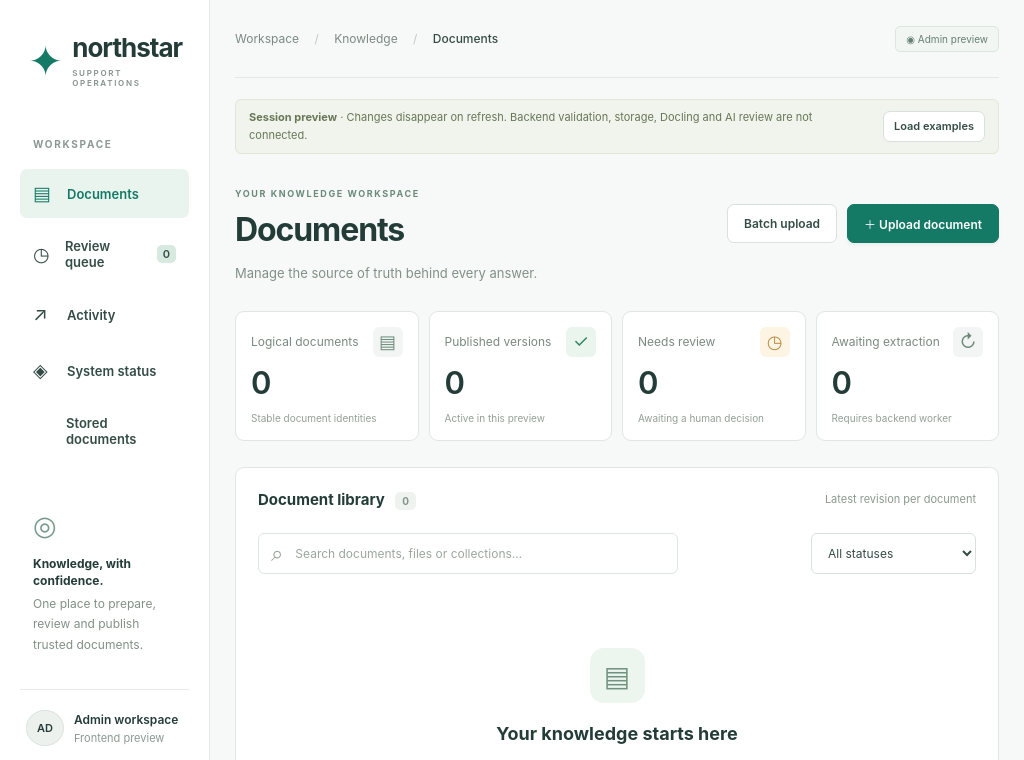
Test: admin workspace › starts empty, labels the preview, and supports searching examples
The width and height of the screenshot is (1024, 760).
Expected: the heading "Your knowledge starts here" is shown, top-left (496, 723), bottom-right (738, 744)
Expected: the text "Changes disappear on refresh" is shown, top-left (249, 110), bottom-right (812, 142)
Click the button "Load examples": (934, 127) top-left (883, 111), bottom-right (985, 142)
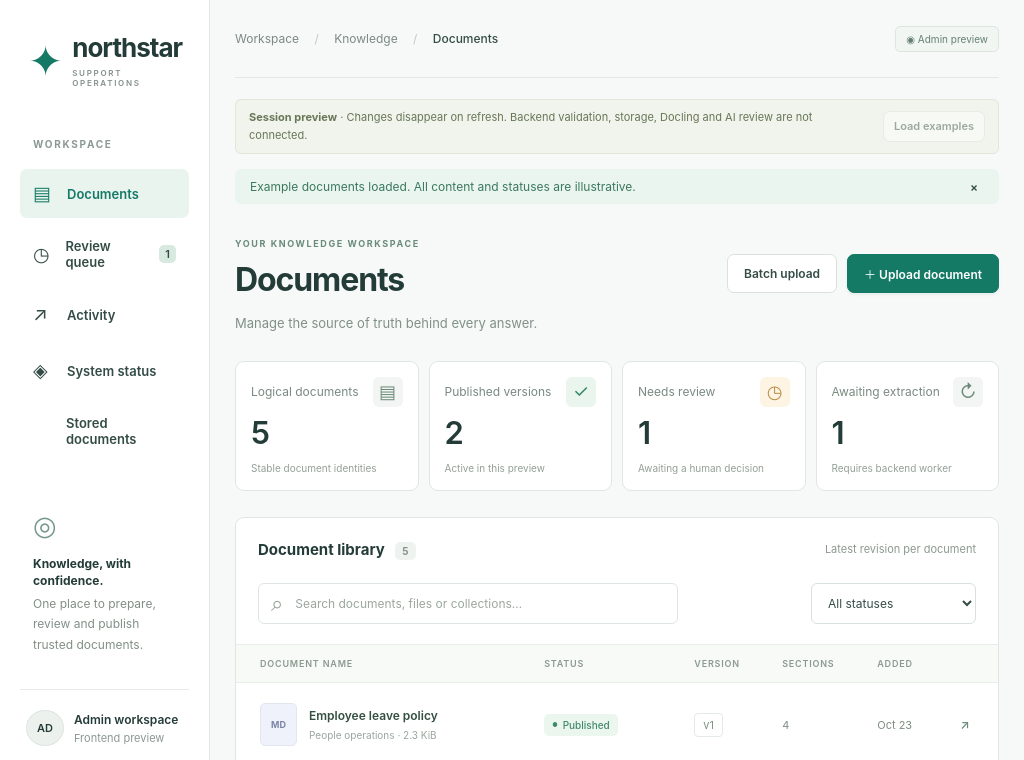
In the field named "Search documents": (480, 604) top-left (283, 584), bottom-right (677, 623), type "refund"
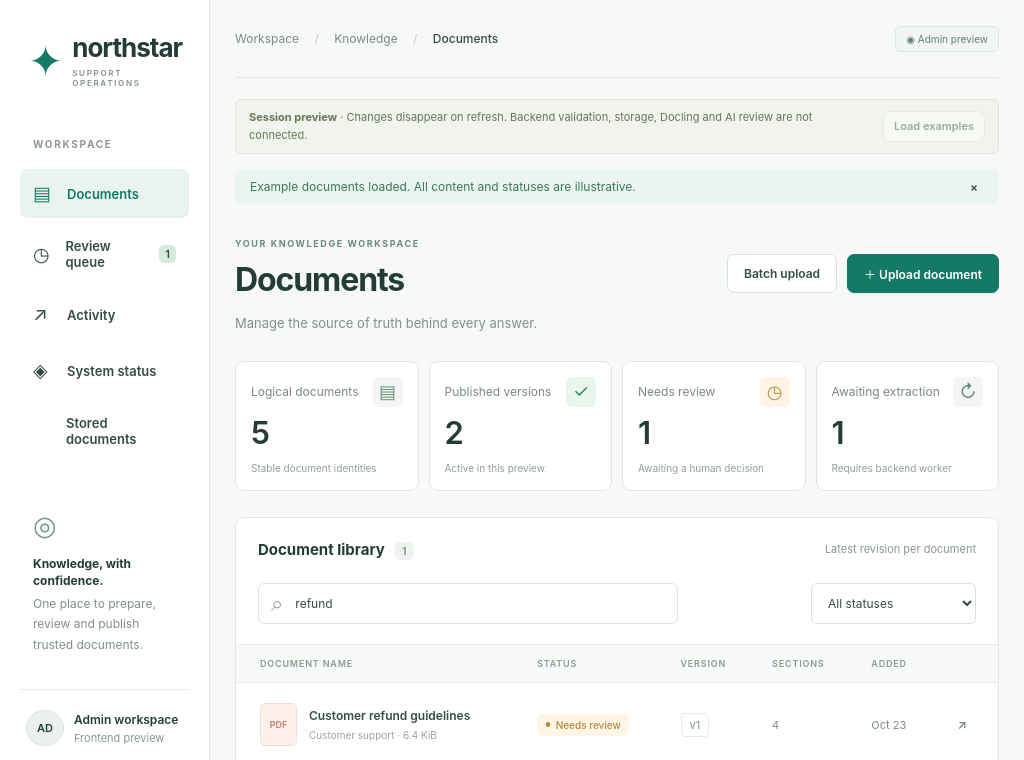
Expected: the button "Customer refund guidelines" is shown, top-left (309, 708), bottom-right (470, 723)
Expected: the button "Employee leave policy" is gone
